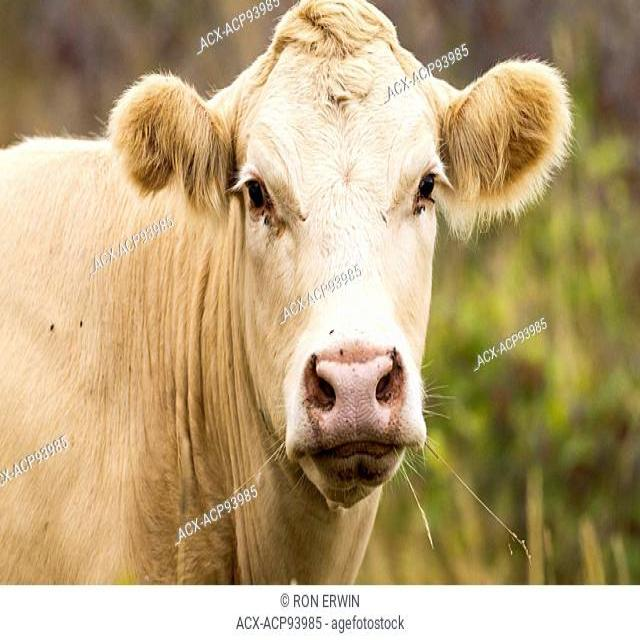cowFace: (100, 7, 582, 517)
